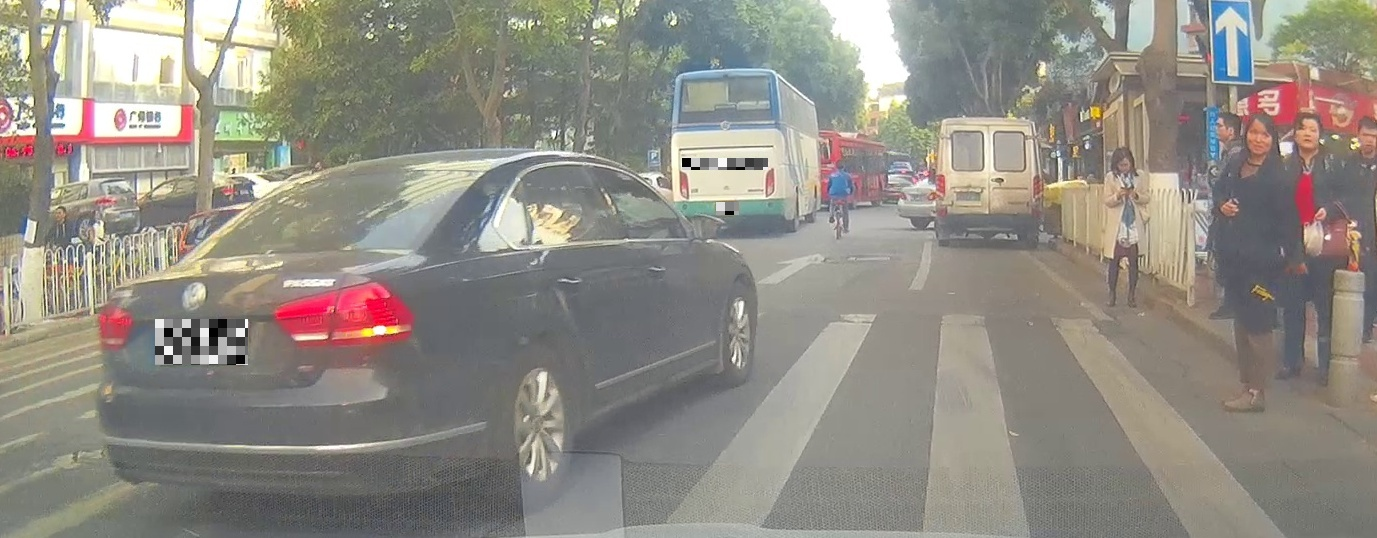L_light: (98, 303, 135, 351), (679, 171, 689, 200), (935, 174, 945, 200)
R_light: (274, 280, 415, 349), (766, 167, 775, 198), (1033, 175, 1042, 201)
T_light: (360, 164, 398, 176), (983, 121, 995, 128), (719, 72, 732, 78)
day-no: (670, 68, 783, 233), (936, 117, 1043, 248)
day-right: (93, 150, 490, 519)
plate_1: (155, 319, 248, 365)
plate_2: (682, 158, 768, 170)
plate_3: (716, 202, 739, 215)
